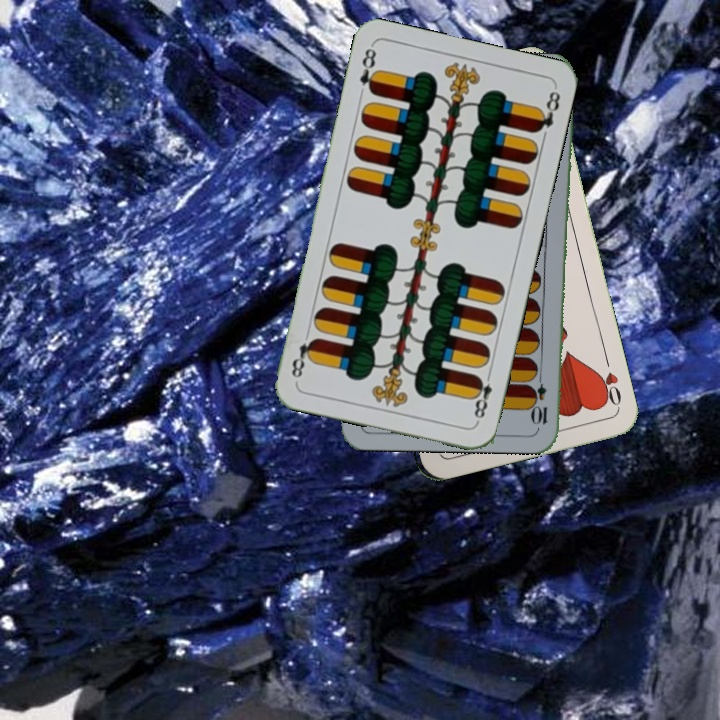E10: (532, 368, 550, 427)
E8: (468, 367, 495, 425), (355, 42, 381, 97)
HO: (593, 352, 624, 410)
